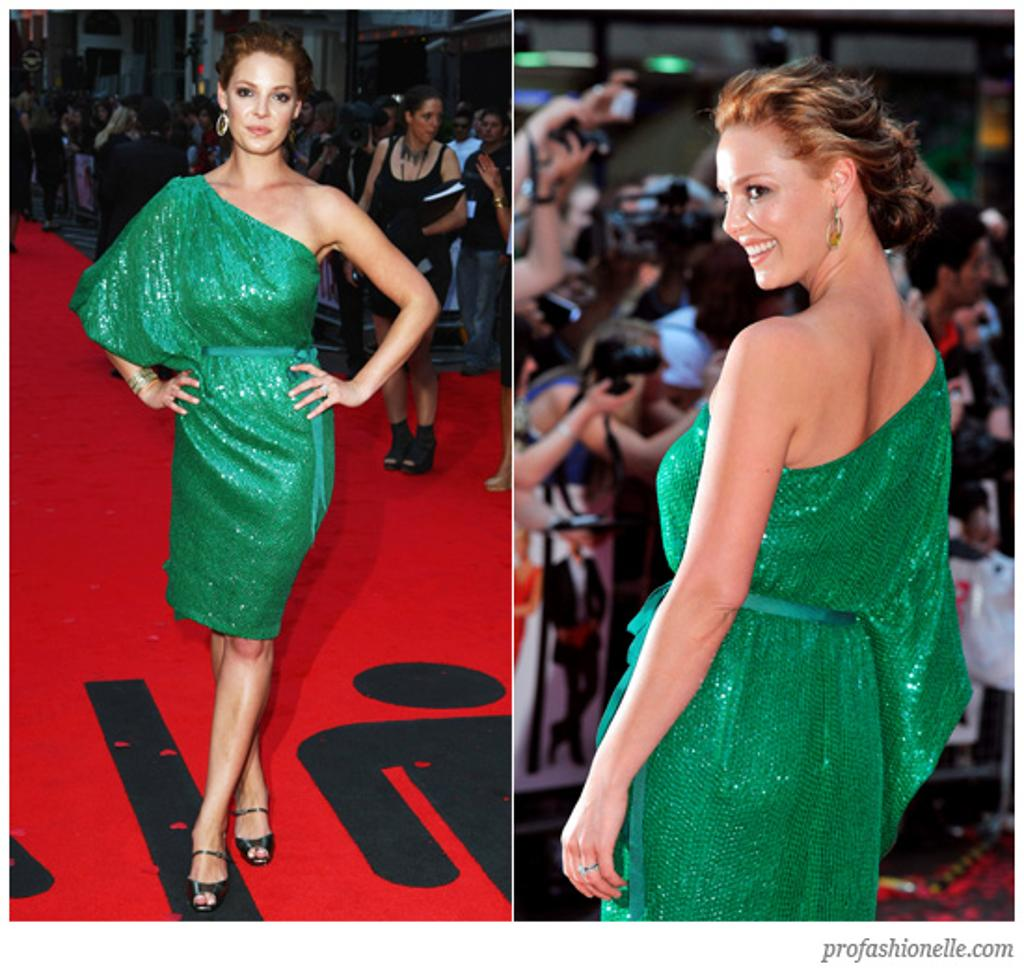face: (717, 138, 830, 289), (226, 65, 294, 153), (413, 104, 442, 143), (481, 116, 502, 141), (454, 118, 468, 139)
